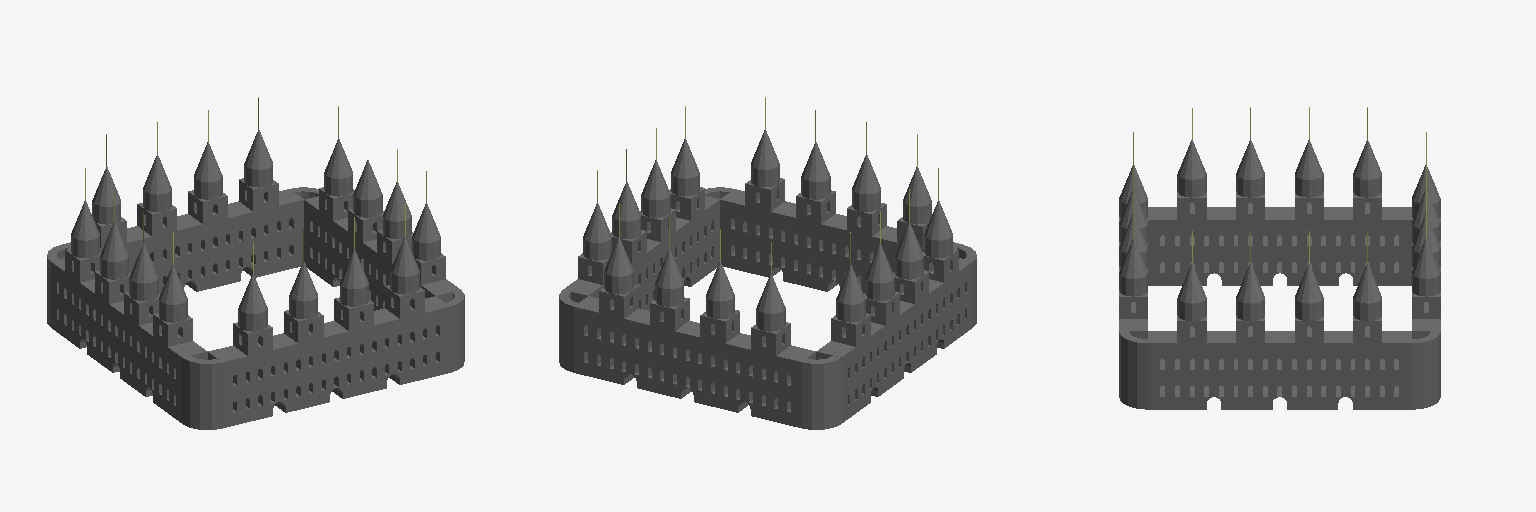
The model's file is castle7.obj.
The picture shows the model from 3 angles: view 1: azimuth 30°, elevation 25°; view 2: azimuth 150°, elevation 25°; view 3: azimuth 270°, elevation 25°; orthographic projection.
Parts seen in each view (by area): view 1: Layer_0; view 2: Layer_0; view 3: Layer_0.
Part boxes in pixels (left/top/right/bottom): Layer_0: left=47, top=97, right=464, bottom=429; Layer_0: left=559, top=97, right=976, bottom=429; Layer_0: left=1119, top=107, right=1440, bottom=409.
Bounding box in the file's own units: 330 × 196 × 330.